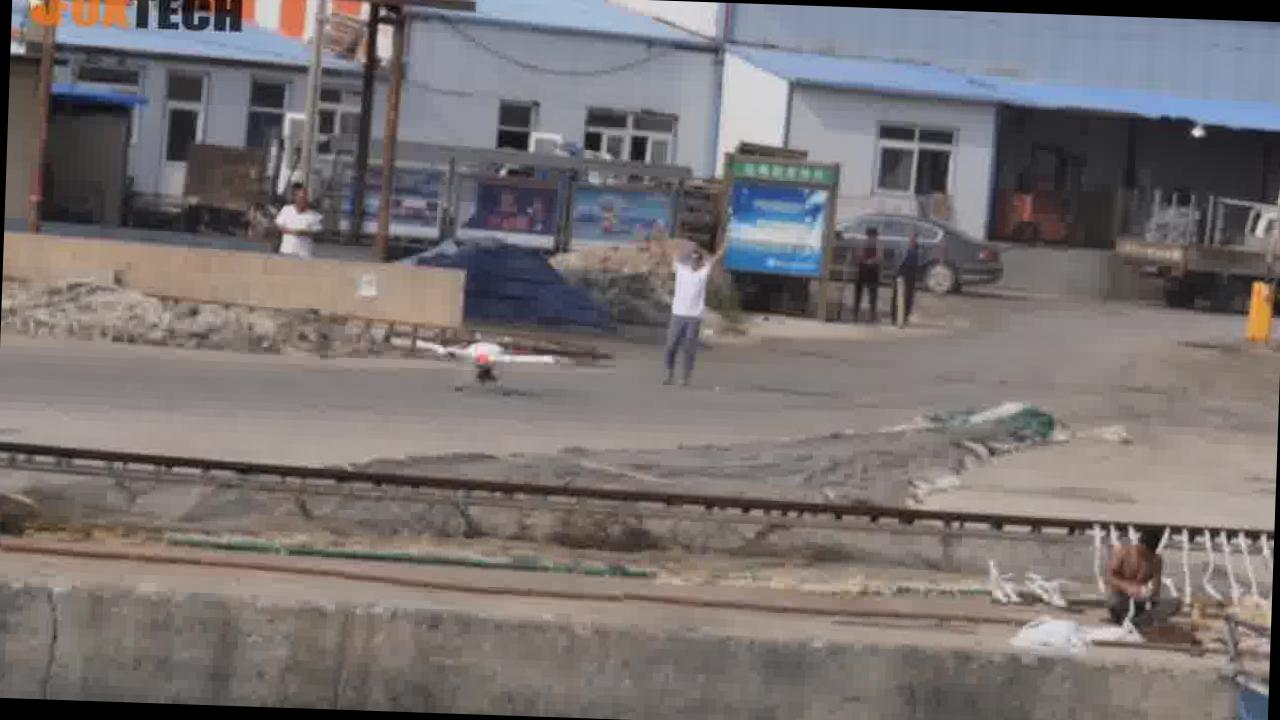drone: (409, 328, 568, 397)
